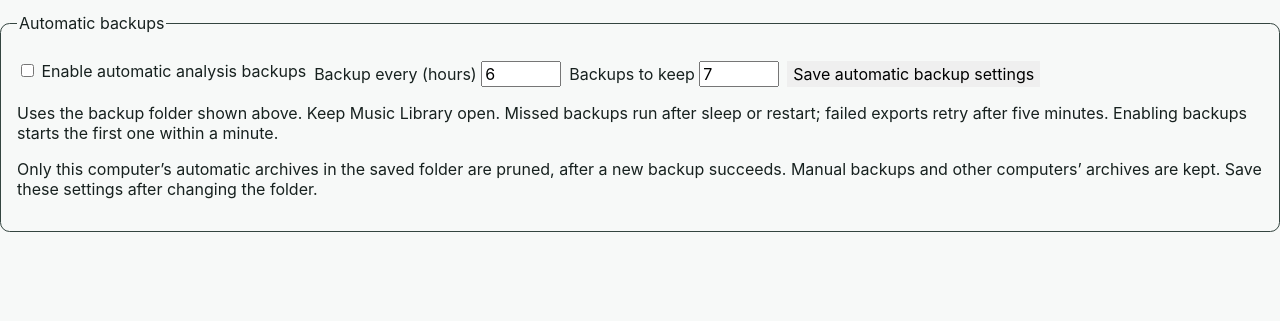
Test: loads six hours and seven archives and persists edited retention with the chosen folder
Expected: the number field labelled "Backups to keep" is enabled, [699,61,779,87]
Expected: the number field labelled "Backup every (hours)" holds "6", [481,61,561,87]
Click the checkbox labelled "Enable automatic analysis backups" at (28, 70), box [21,64,34,77]
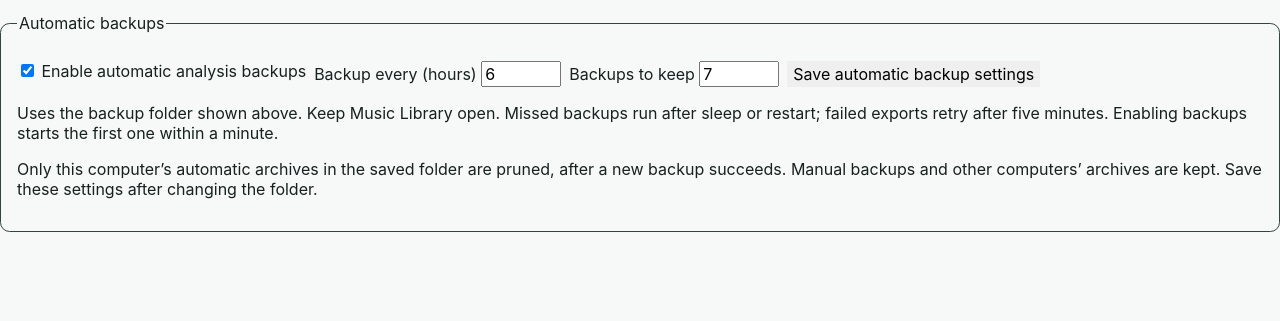
Replace the text in the number field labelled "Backups to keep" with "3" at (739, 74), box [699,61,779,87]
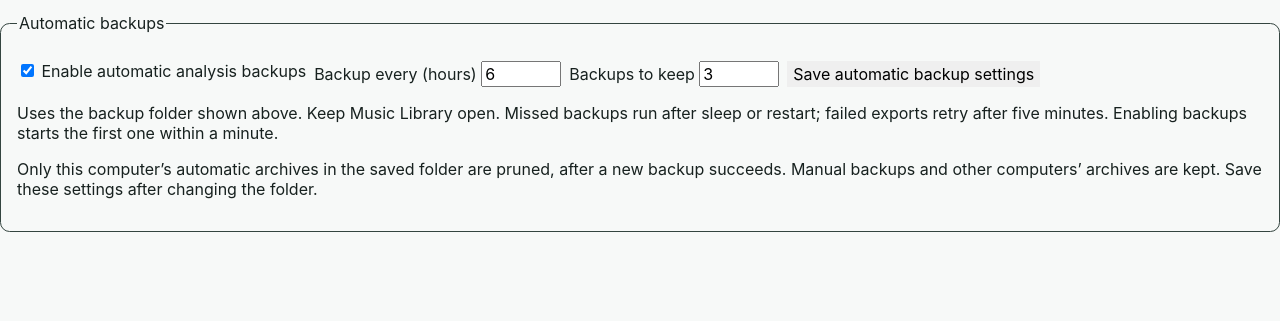
Replace the text in the number field labelled "Backup every (hours)" with "12" at (521, 74), box [481,61,561,87]
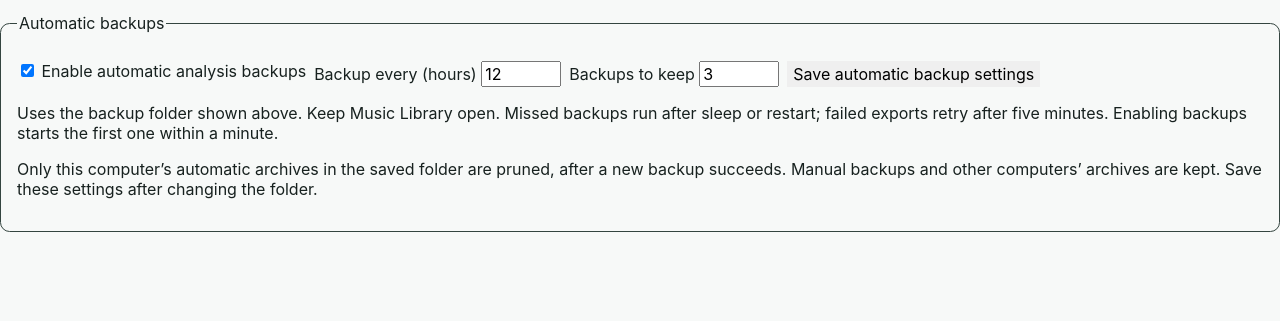
Click the button "Save automatic backup settings" at (914, 74), box [787,61,1040,87]
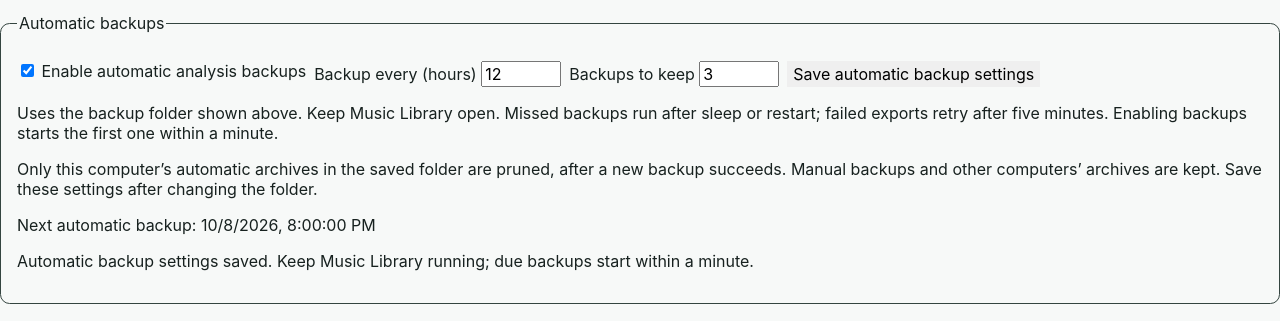
Result: the text "Automatic backup settings saved" is shown at [17,251,754,271]
Result: the text "Next automatic backup: 10/8/2026, 8:00:00 PM" is shown at [17,215,376,235]
